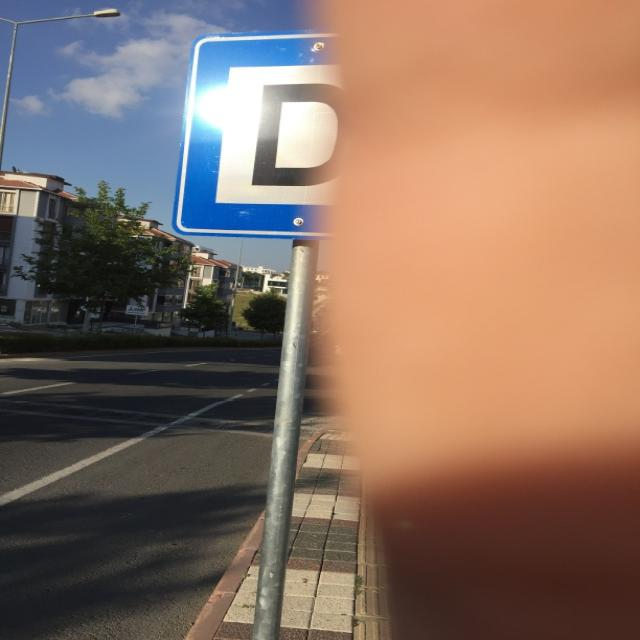durak: (170, 28, 406, 241)
